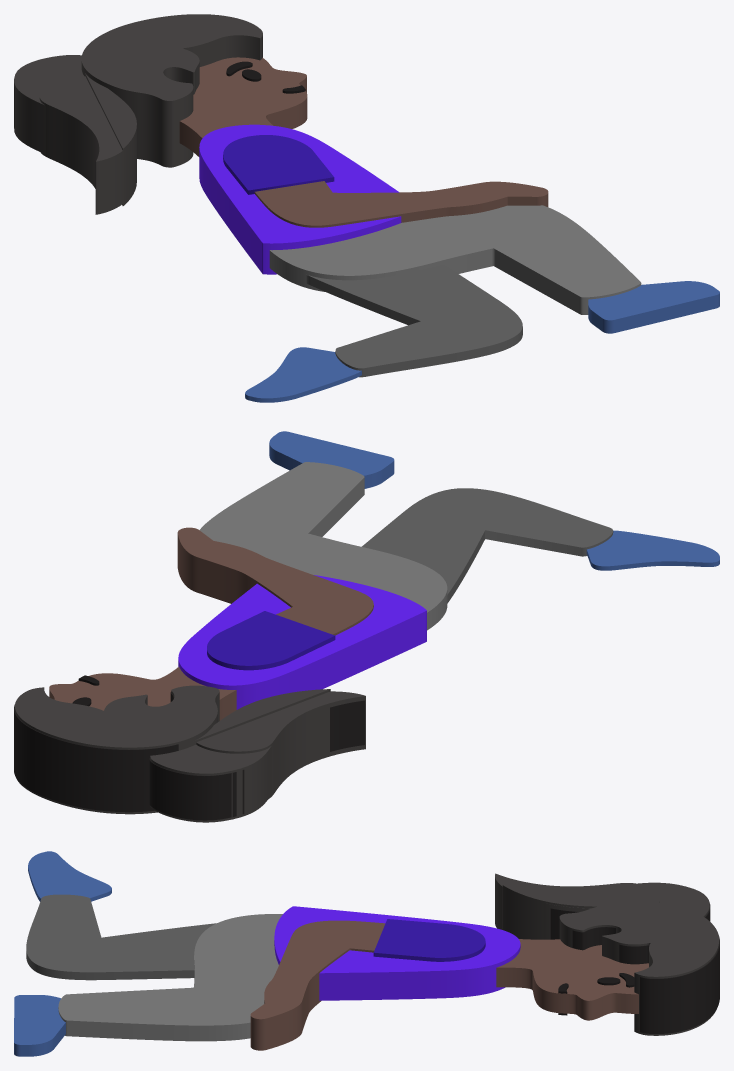
Rendered from emoji_u1f9ce_1f3ff_200d_2640_200d_27a1.glb.
The picture shows the model from 3 angles, top to bottom: view 1: azimuth 30°, elevation 25°; view 2: azimuth 150°, elevation 25°; view 3: azimuth 270°, elevation 25°; orthographic projection. The views are drawn at different scales.
Parts seen in each view (by area): view 1: emoji_u1f9ce_1f3ff_200d_2640_200d_27a1; view 2: emoji_u1f9ce_1f3ff_200d_2640_200d_27a1; view 3: emoji_u1f9ce_1f3ff_200d_2640_200d_27a1.
Boxes of the visible parts, x1,y1,x2,y2 form: emoji_u1f9ce_1f3ff_200d_2640_200d_27a1: (14,14,719,402); emoji_u1f9ce_1f3ff_200d_2640_200d_27a1: (14,431,719,822); emoji_u1f9ce_1f3ff_200d_2640_200d_27a1: (14,851,719,1056).
Size of the model in its own units: 0.0215 by 0.003 by 0.0325.
